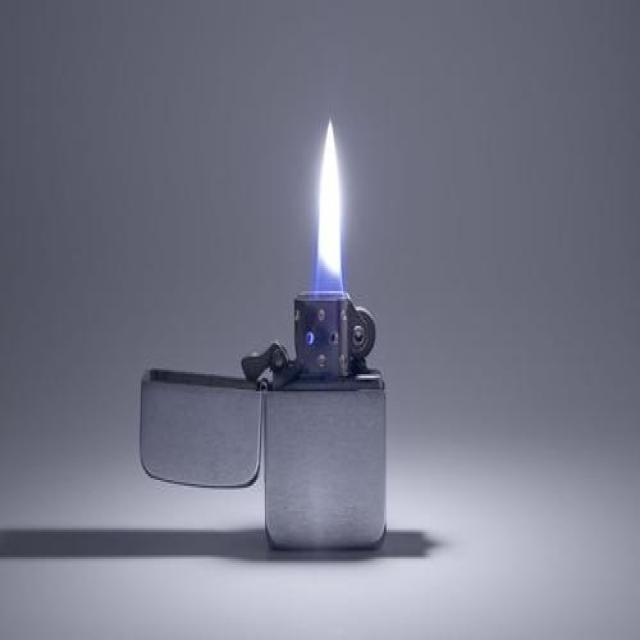Fire: (315, 115, 342, 288)
